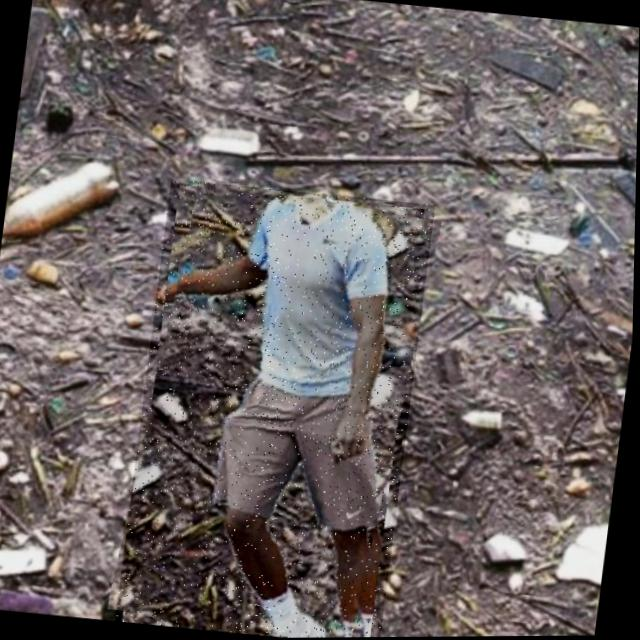Person in Rubble: (117, 177, 436, 639)
